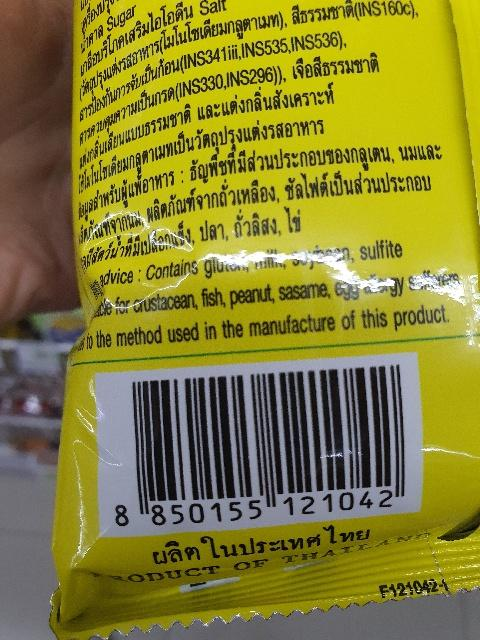Barcode: (112, 359, 419, 535)
